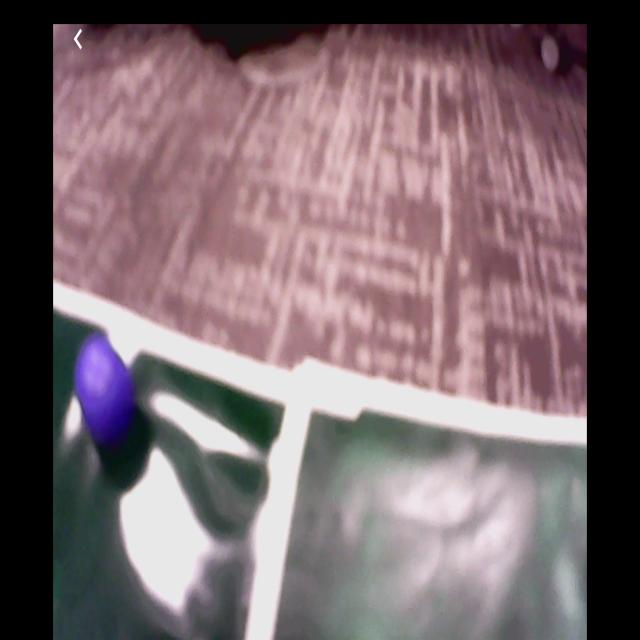ball: (78, 336, 138, 443)
